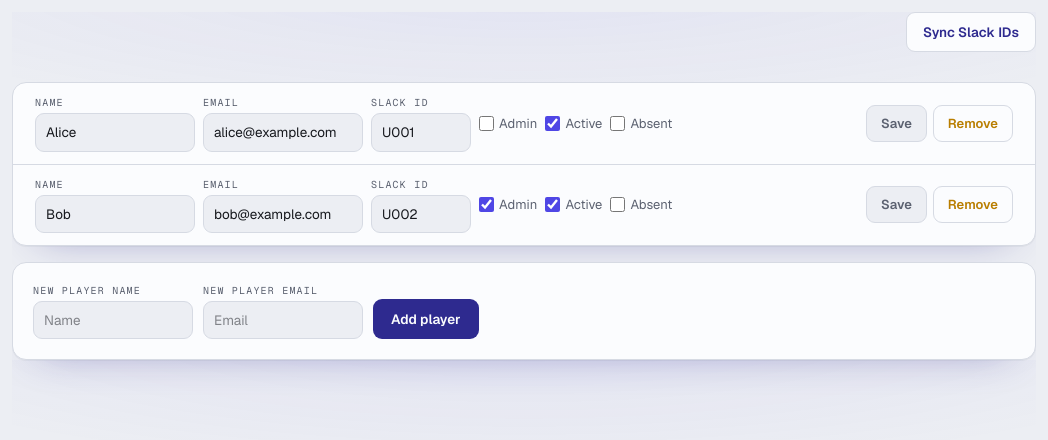
Test case: RosterManager: Save button (upsert) › shows an error alert and does not throw when the save response is not ok
The image size is (1048, 440).
Click the 1st button "Save" at [896, 123], box left=866, top=105, right=927, bottom=142
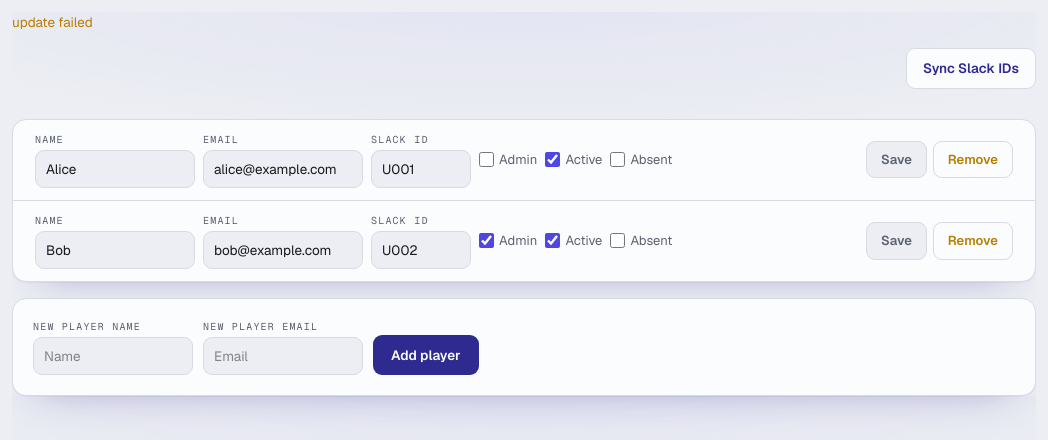
Now the message "update failed" is shown, box left=12, top=13, right=93, bottom=31
